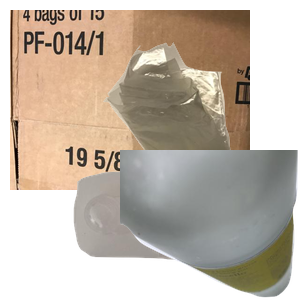cardboard: (10, 10, 250, 190)
glass: (120, 150, 300, 300)
plastic: (71, 169, 275, 300)
trash: (101, 40, 300, 192)
